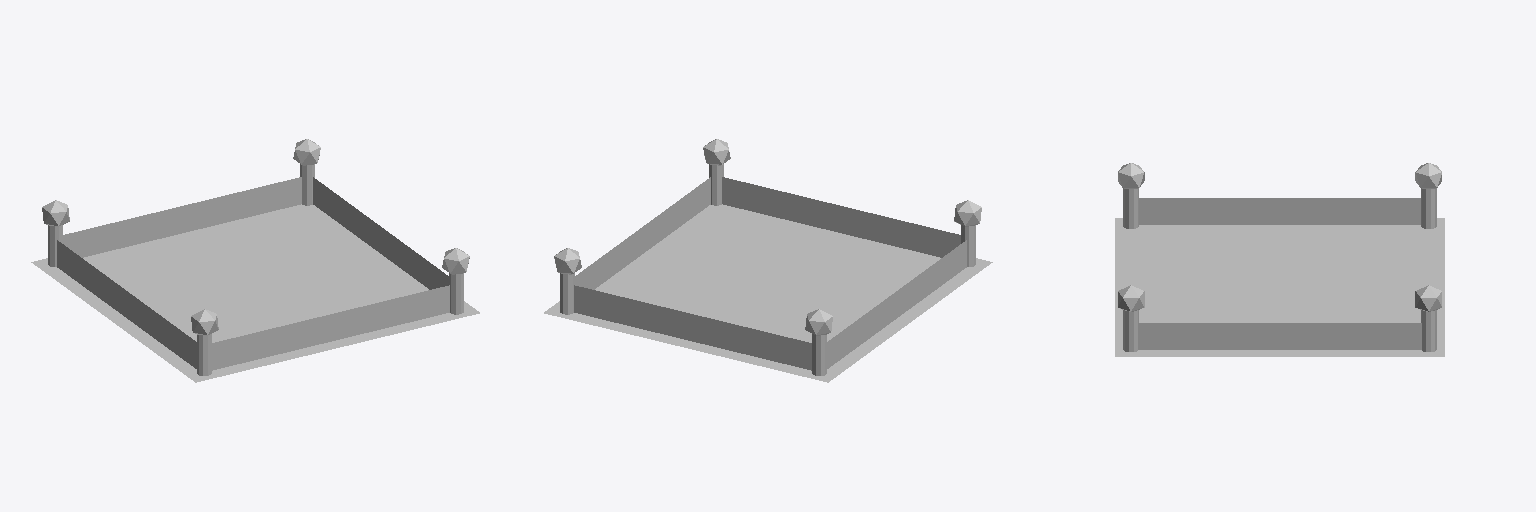
The model's file is demo level collision.obj.
3 renders of one model, left to right at view 1: azimuth 30°, elevation 25°; view 2: azimuth 150°, elevation 25°; view 3: azimuth 270°, elevation 25°, orthographic.
Visible parts, largest first — view 1: Cylinder.001_Cylinder.002; view 2: Cylinder.001_Cylinder.002; view 3: Cylinder.001_Cylinder.002.
Boxes of the visible parts, x1=… form: Cylinder.001_Cylinder.002: x1=31, y1=139, x2=479, y2=382; Cylinder.001_Cylinder.002: x1=544, y1=139, x2=992, y2=382; Cylinder.001_Cylinder.002: x1=1115, y1=163, x2=1444, y2=356.
Bounding box in the file's own units: 4 × 0.8622 × 4.